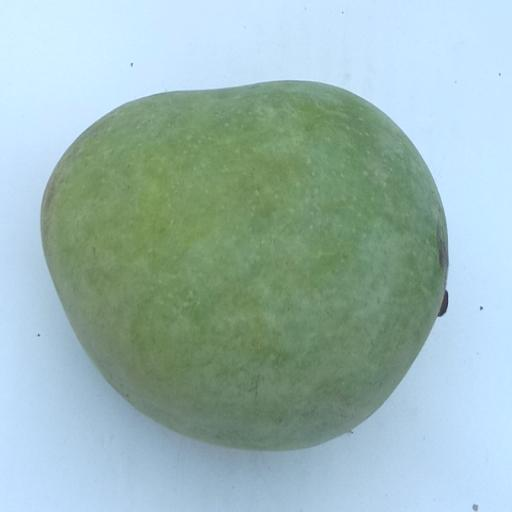mango-unripe: (19, 31, 480, 475)
